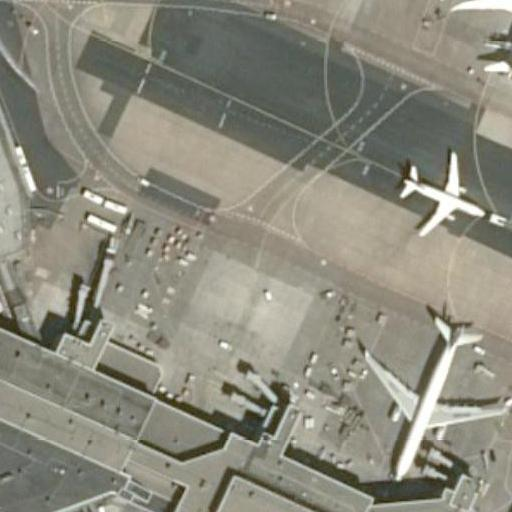Aircraft: (351, 295, 512, 481), (386, 140, 496, 241), (445, 0, 512, 93), (490, 402, 512, 512)
